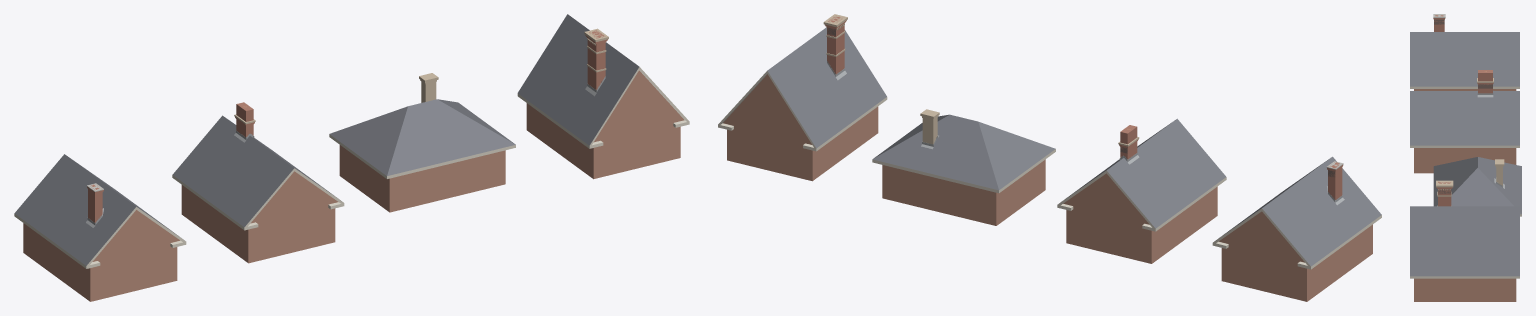
Rendered from k15_chimney_kit.glb.
3 renders of one model, left to right at view 1: azimuth 30°, elevation 25°; view 2: azimuth 150°, elevation 25°; view 3: azimuth 270°, elevation 25°, orthographic. The views are drawn at different scales.
Visible parts, largest first — view 1: k15.stack.ridge, k15.stack.sherman, k15.stack.service, k15.stack.stone, k15.stack.stone.light, k15.stack.sherman.light, k15.stack.service.light, k15.stack.ridge.light; view 2: k15.stack.sherman, k15.stack.ridge, k15.stack.service, k15.stack.stone, k15.stack.stone.light, k15.stack.sherman.light, k15.stack.service.light, k15.stack.ridge.light; view 3: k15.stack.sherman, k15.stack.ridge, k15.stack.service, k15.stack.sherman.light, k15.stack.stone, k15.stack.ridge.light, k15.stack.service.light, k15.stack.stone.light.
Part boxes in pixels (bbox=[...]): k15.stack.ridge: bbox=[172, 106, 344, 263]; k15.stack.sherman: bbox=[517, 14, 689, 179]; k15.stack.service: bbox=[14, 154, 186, 301]; k15.stack.stone: bbox=[329, 73, 515, 212]; k15.stack.stone.light: bbox=[330, 74, 515, 211]; k15.stack.sherman.light: bbox=[520, 16, 688, 143]; k15.stack.service.light: bbox=[16, 156, 184, 267]; k15.stack.ridge.light: bbox=[173, 102, 342, 229]; k15.stack.sherman: bbox=[718, 14, 887, 181]; k15.stack.ridge: bbox=[1057, 118, 1226, 263]; k15.stack.service: bbox=[1212, 156, 1381, 301]; k15.stack.stone: bbox=[872, 109, 1055, 225]; k15.stack.stone.light: bbox=[873, 110, 1054, 225]; k15.stack.sherman.light: bbox=[769, 15, 883, 146]; k15.stack.service.light: bbox=[1265, 159, 1378, 268]; k15.stack.ridge.light: bbox=[1107, 120, 1175, 227]; k15.stack.sherman: bbox=[1410, 180, 1519, 301]; k15.stack.ridge: bbox=[1410, 71, 1519, 173]; k15.stack.service: bbox=[1410, 14, 1519, 90]; k15.stack.sherman.light: bbox=[1410, 181, 1515, 301]; k15.stack.stone: bbox=[1433, 157, 1521, 216]; k15.stack.ridge.light: bbox=[1410, 70, 1518, 173]; k15.stack.service.light: bbox=[1410, 15, 1516, 90]; k15.stack.stone.light: bbox=[1457, 160, 1521, 215].
Bounding box in the file's own units: 41.6 × 8.2 × 8.75.
